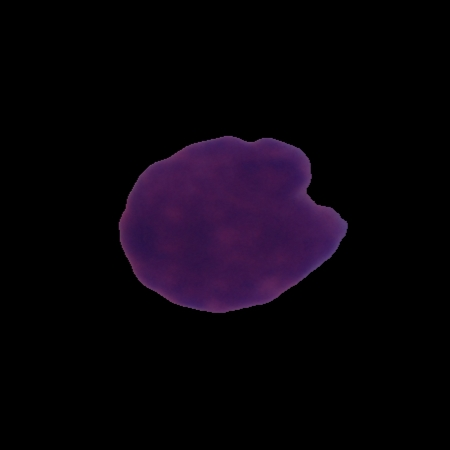ALL: (115, 131, 351, 316)
